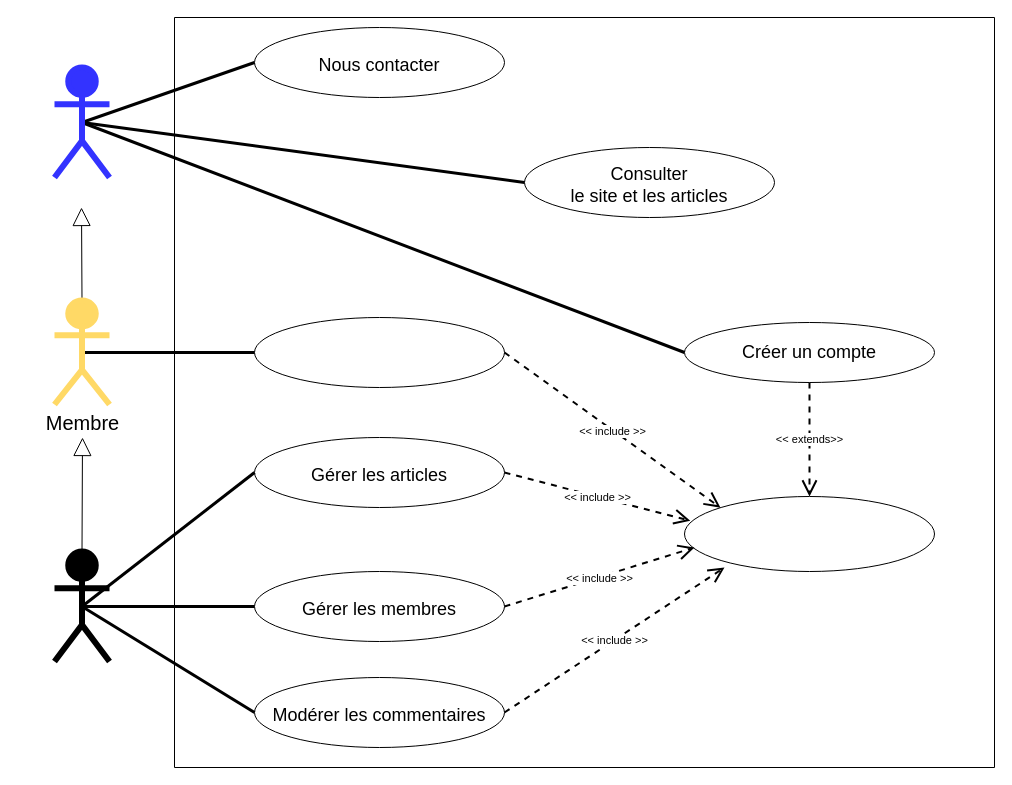
Some shapes in this 1012 by 785 pixel diagram are drawn without their labels. The centre of each missing label's shape, as x and y in pixels:
"Administrateur" belongs at pixel 81 606.
"Commenter les articles" belongs at pixel 379 352.
"Se connecter" belongs at pixel 809 534.
"Visiteur" belongs at pixel 81 122.
